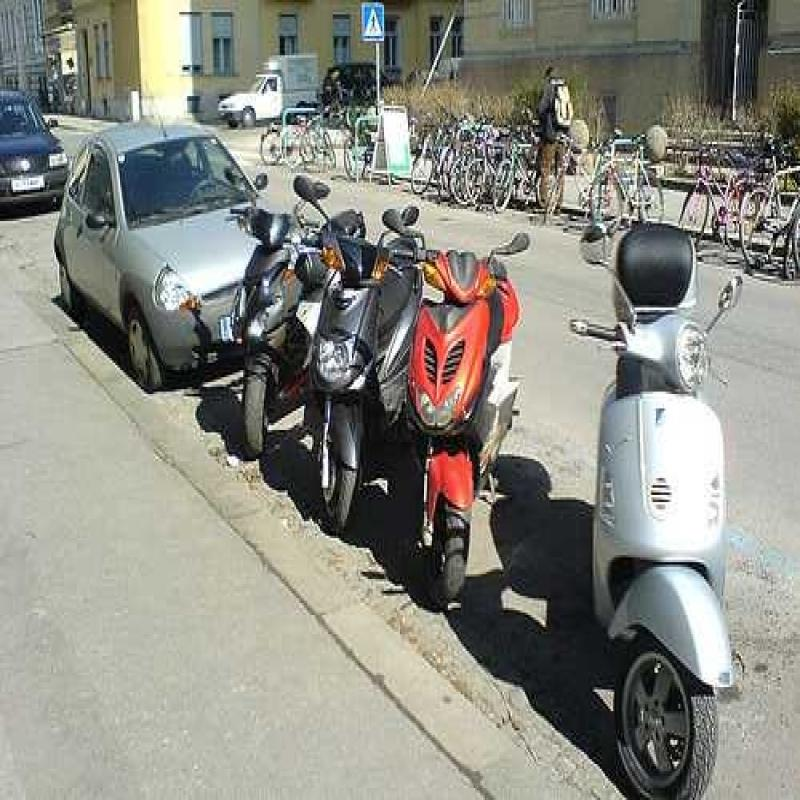bike: (587, 221, 740, 800), (414, 222, 522, 596), (312, 199, 416, 516), (226, 170, 314, 460)
